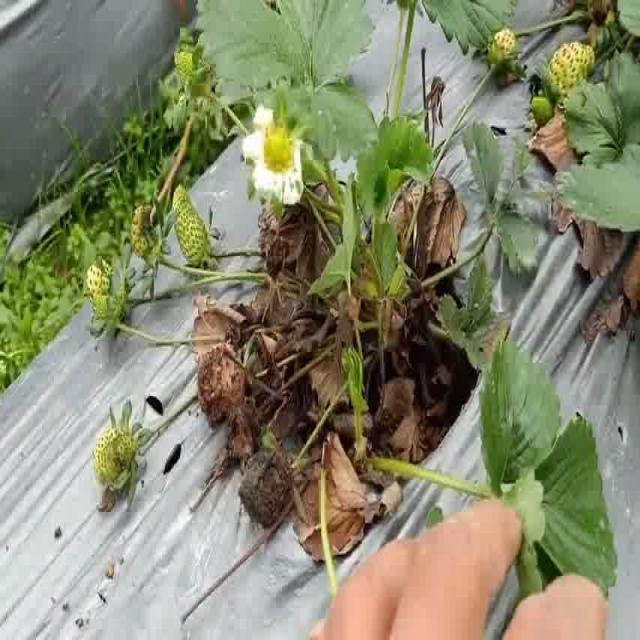Mancha negra Antracnosis: (235, 448, 296, 530), (197, 342, 250, 422)
